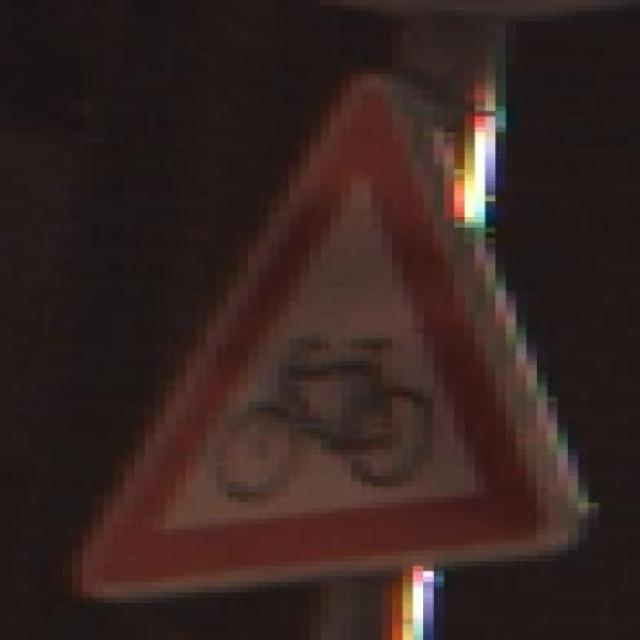CYCLE ROUTE AHEAD WARNING: (52, 48, 599, 624)
